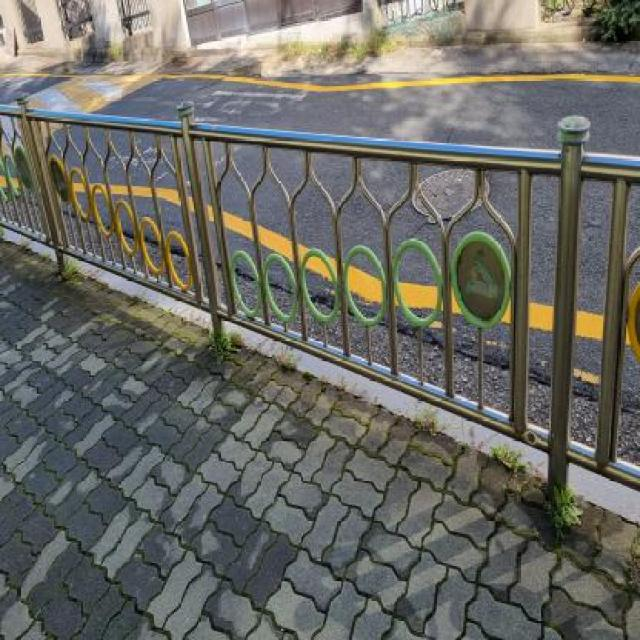fence: (279, 104, 638, 536), (13, 81, 298, 355)
